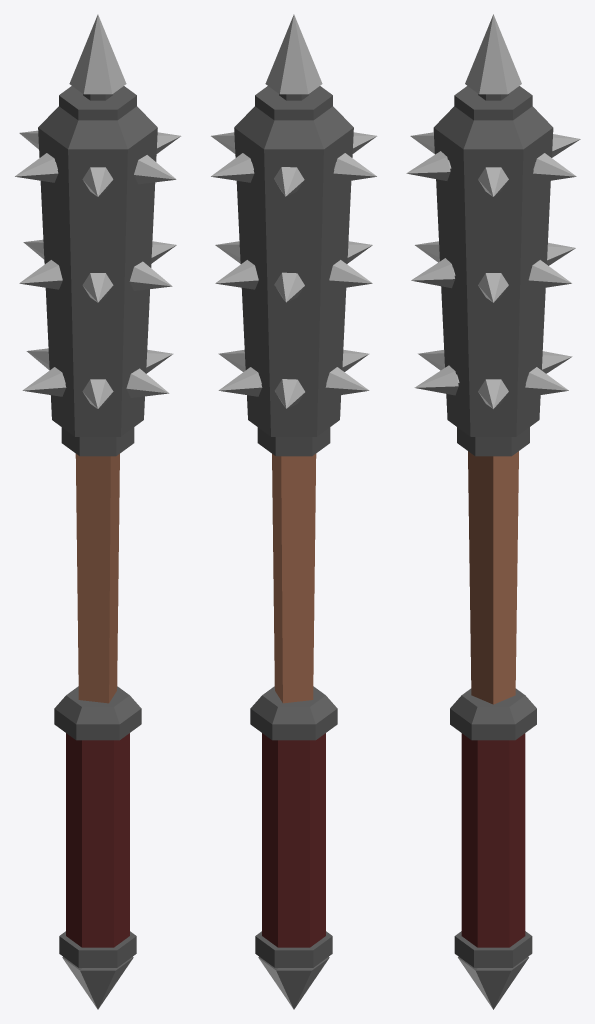
The model's file is Spiked mace.fbx.
3 renders of one model, left to right at view 1: azimuth 30°, elevation 25°; view 2: azimuth 150°, elevation 25°; view 3: azimuth 270°, elevation 25°, orthographic.
Parts seen in each view (by area): view 1: Mace; view 2: Mace; view 3: Mace.
Boxes of the visible parts, x1,y1,x2,y2 form: Mace: (15, 14, 180, 1009); Mace: (211, 14, 376, 1009); Mace: (406, 14, 580, 1009).
Bounding box in the file's own units: 32.41 × 184 × 29.37.
